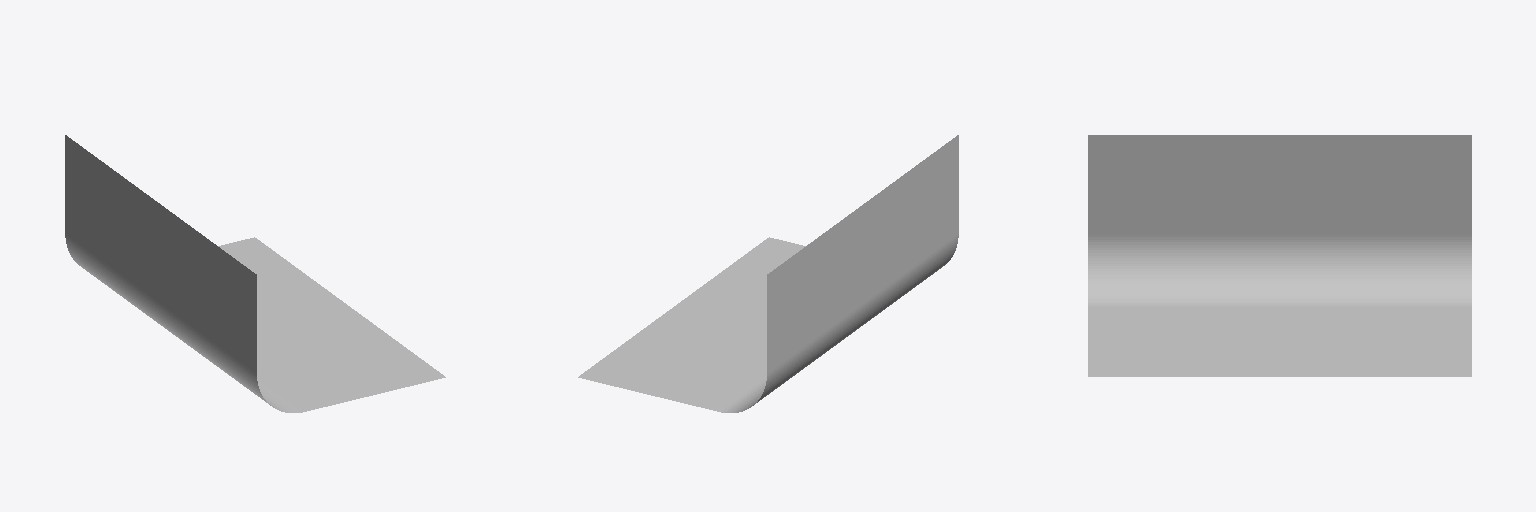
The picture shows the model from 3 angles: view 1: azimuth 30°, elevation 25°; view 2: azimuth 150°, elevation 25°; view 3: azimuth 270°, elevation 25°; orthographic projection.
Visible parts, largest first — view 1: Backdrop; view 2: Backdrop; view 3: Backdrop.
Part boxes in pixels (x1,y1,x2,y2): Backdrop: (65, 135, 445, 412); Backdrop: (578, 135, 958, 412); Backdrop: (1088, 135, 1471, 376).
Bounding box in the file's own units: 0.6 × 0.45 × 1.05.